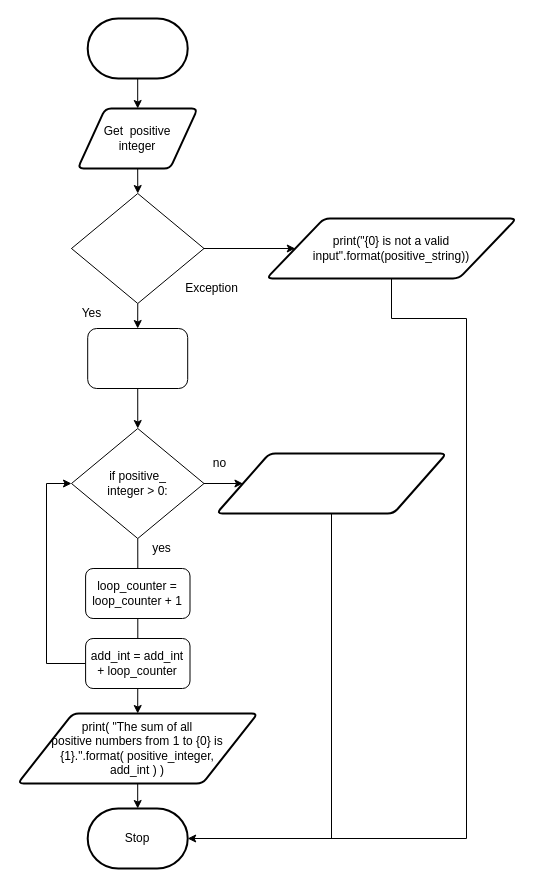
Some shapes in this 535 by 886 pixel diagram are drawn without their labels. Here are the shapes that lost their labels. From the top down, the centre of each, then its label:
[137,48]: Start
[137,248]: try
[137,358]: convert string to int
[331,483]: print("{0} is not a positive integer".format(positive_string))
